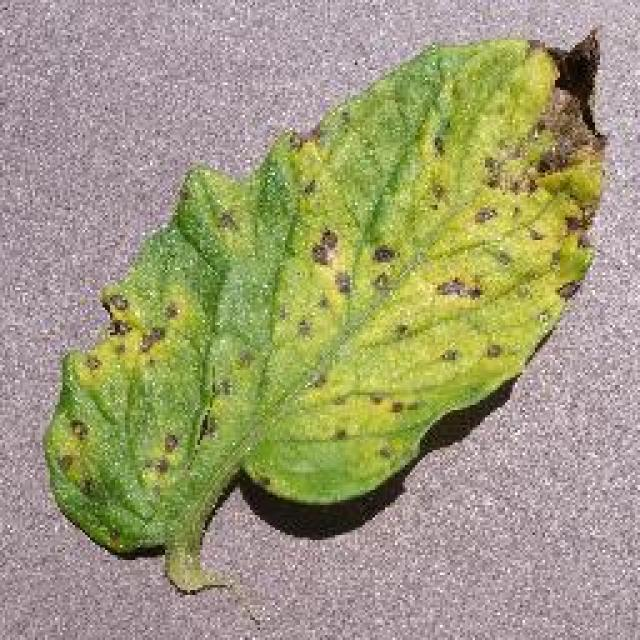Tomato Septoria spot leaf: (44, 26, 610, 556)
